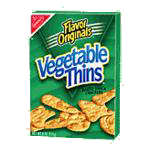grozi_119: (29, 11, 121, 140)
